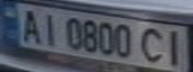0: (60, 15, 84, 51), (115, 21, 136, 60), (97, 19, 118, 56)
8: (78, 16, 100, 54)
A: (15, 6, 45, 44)
C: (136, 25, 169, 64)
I: (160, 27, 190, 68), (36, 10, 63, 46)
